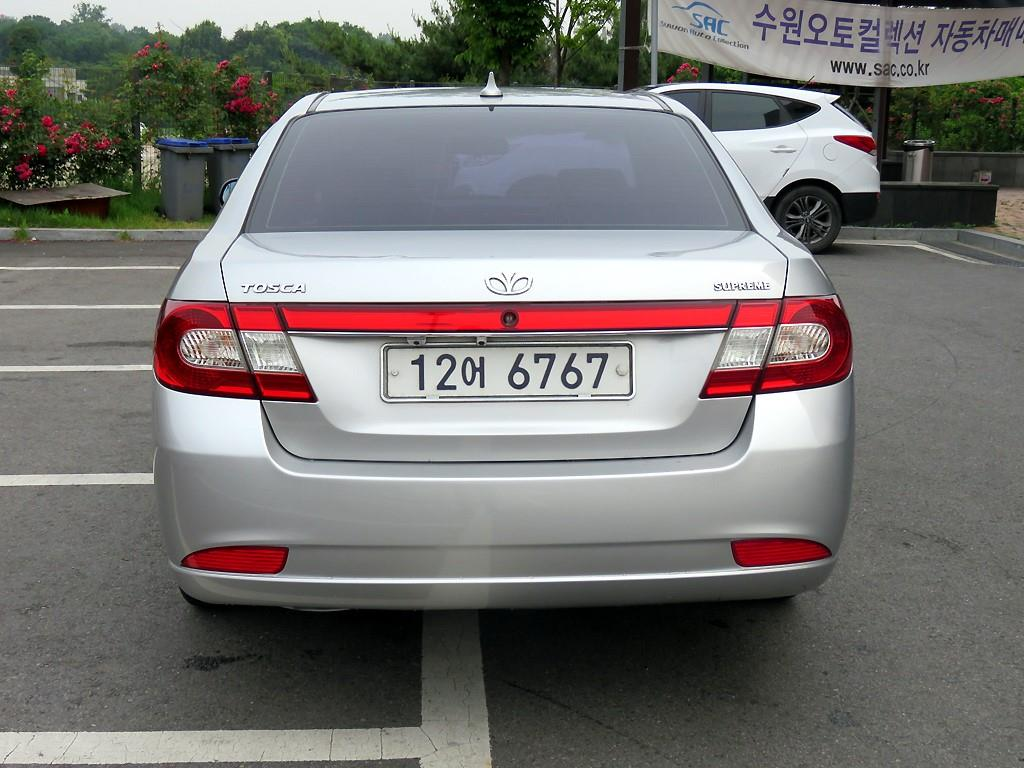plate: (387, 345, 629, 398)
